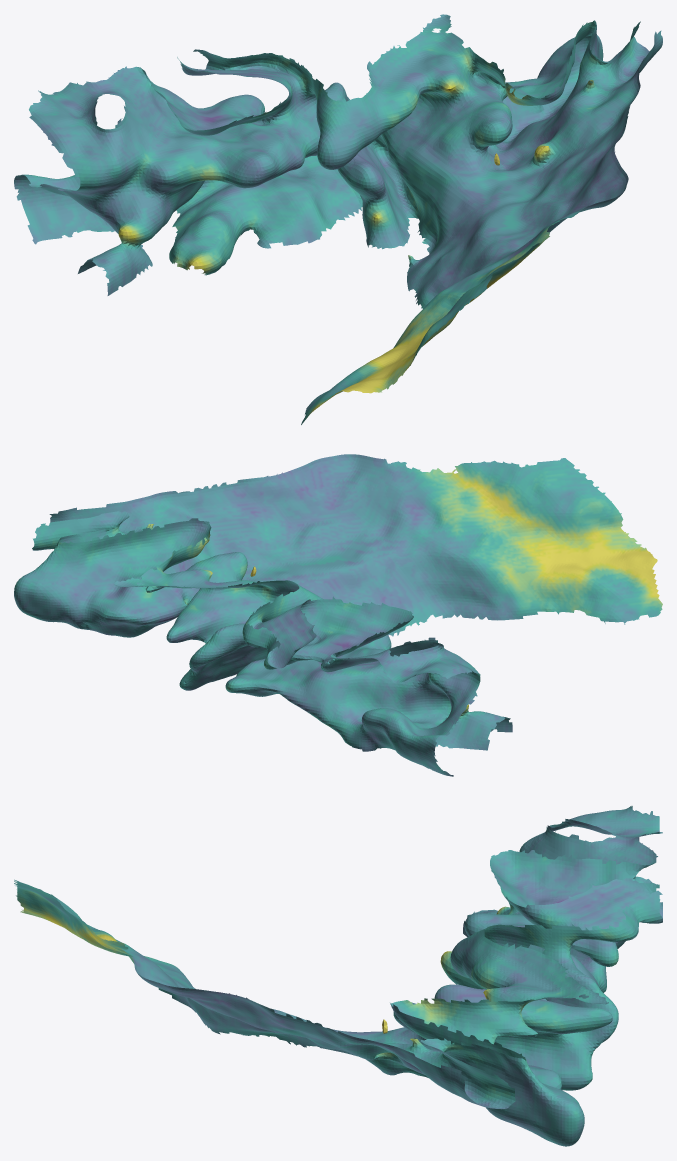
Rendered from crop1148_gap.glb.
3 views of the same model, one above another, from view 1: azimuth 30°, elevation 25°; view 2: azimuth 150°, elevation 25°; view 3: azimuth 270°, elevation 25° (orthographic). The views are drawn at different scales.
Visible parts, largest first — view 1: world; view 2: world; view 3: world.
Part boxes in pixels (x1=…): world: x1=14, y1=14, x2=662, y2=424; world: x1=14, y1=454, x2=662, y2=776; world: x1=14, y1=806, x2=662, y2=1146.
Bounding box in the file's own units: 3121 × 720 × 3088.
